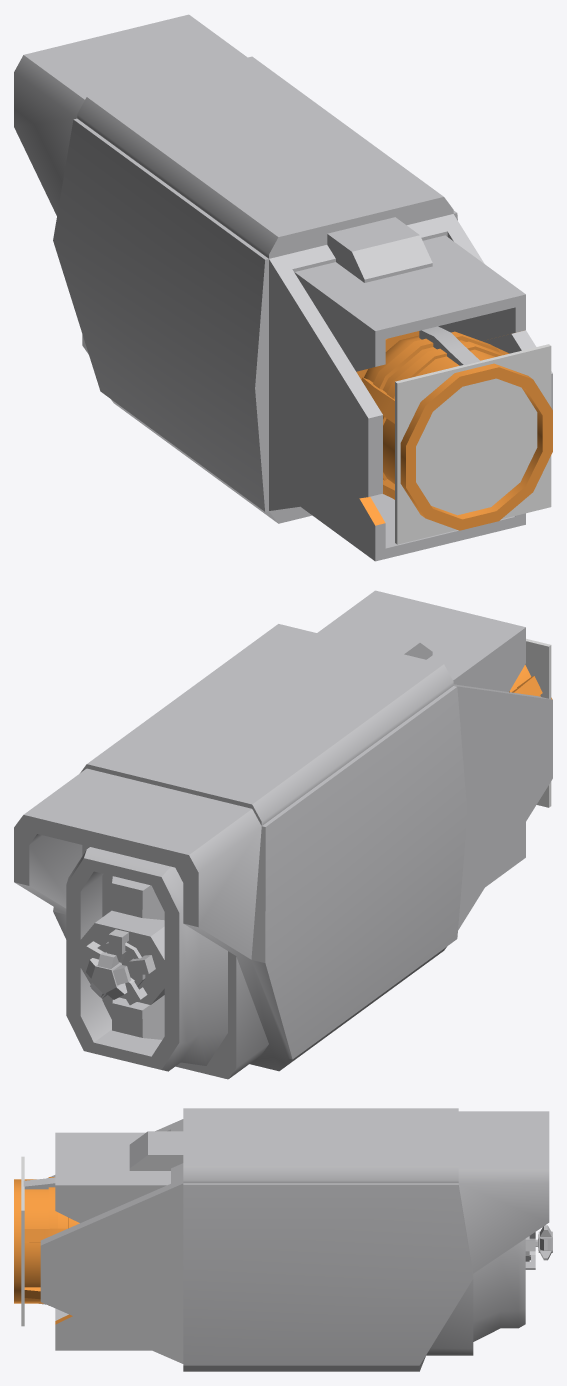
The model's file is Block_Engine_single.glb.
3 renders of one model, top to bottom at view 1: azimuth 30°, elevation 25°; view 2: azimuth 150°, elevation 25°; view 3: azimuth 270°, elevation 25°, orthographic. The views are drawn at different scales.
Visible parts, largest first — view 1: Block Engine single, CenterThruster; view 2: Block Engine single, CenterThruster; view 3: Block Engine single, CenterThruster.
Part boxes in pixels (x1,y1,x2,y2): Block Engine single: (14, 14, 552, 561); CenterThruster: (395, 344, 551, 544); Block Engine single: (14, 590, 552, 1079); CenterThruster: (525, 638, 551, 807); Block Engine single: (14, 1108, 552, 1371); CenterThruster: (21, 1156, 24, 1326).
Size of the model in its own units: 1.95 by 2.52 by 5.99.
